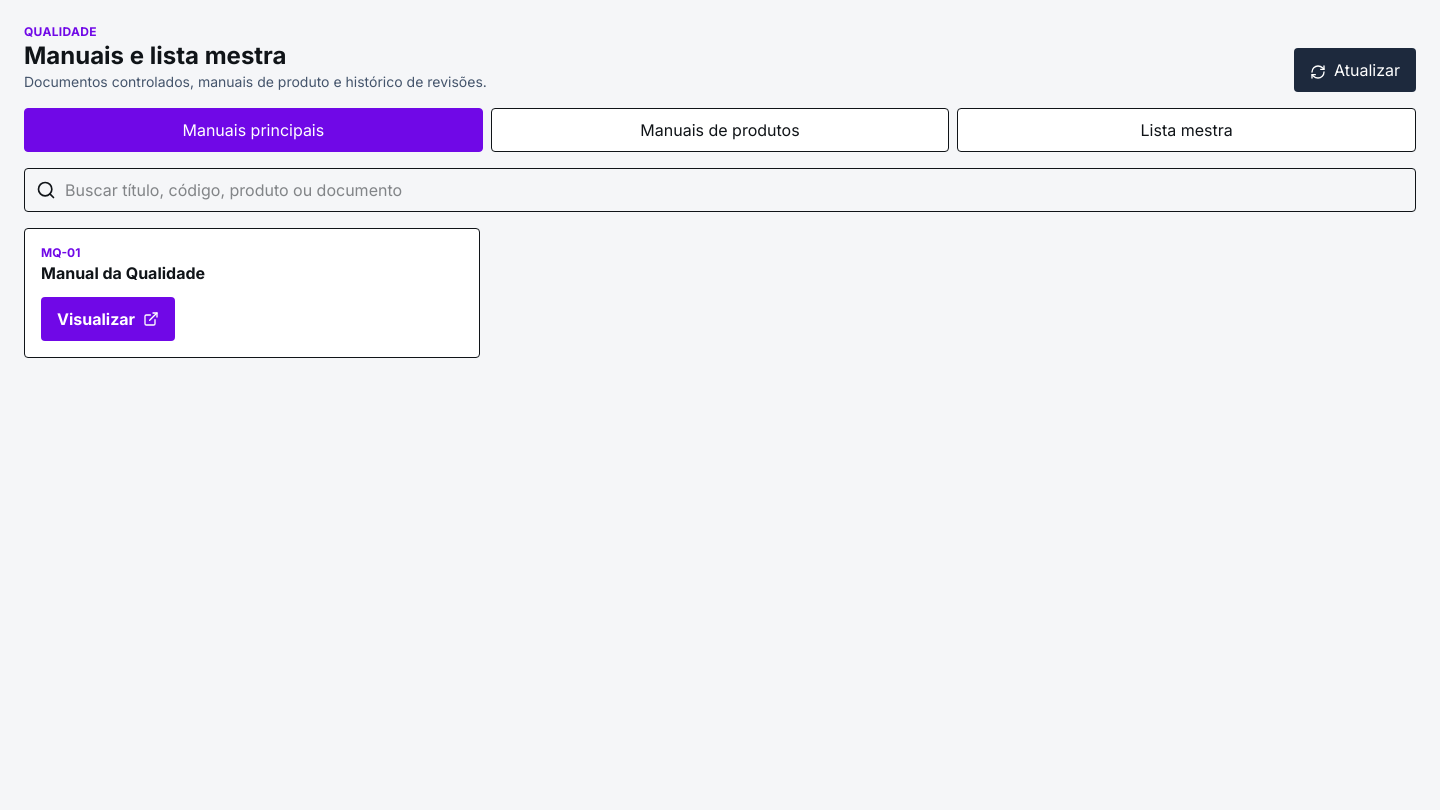
Test case: QualityManualsScreen › loads version history read-only
Click the button "Lista mestra".
click(1187, 130)  # box x1=957 y1=108 x2=1416 y2=152
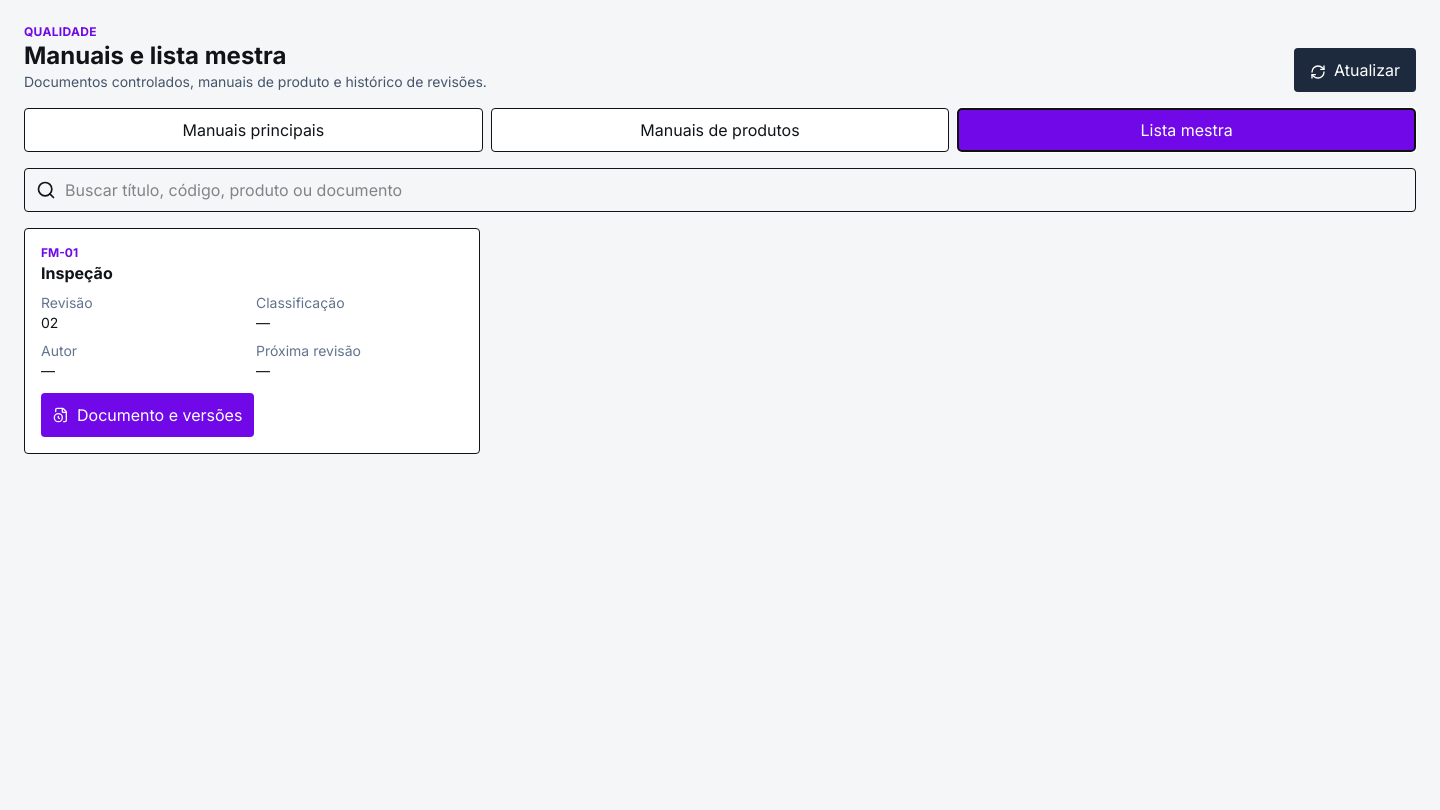
Click the button "Documento e versões".
click(148, 415)  # box x1=41 y1=393 x2=254 y2=437
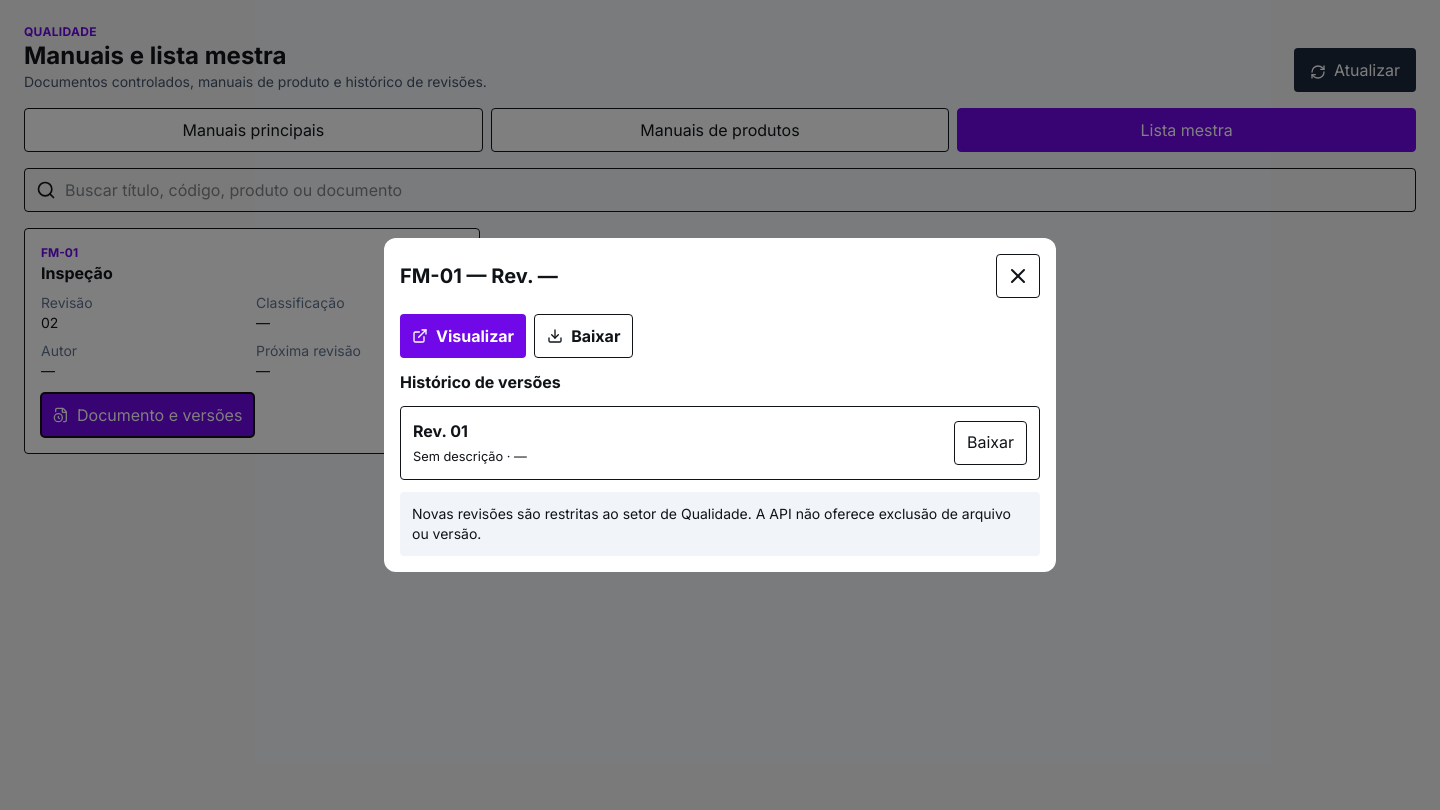
Expected: the text "Rev. 01" is shown, x1=413 y1=421 x2=468 y2=441
Expected: the text "API não oferece exclusão" is shown, x1=412 y1=505 x2=1011 y2=542
